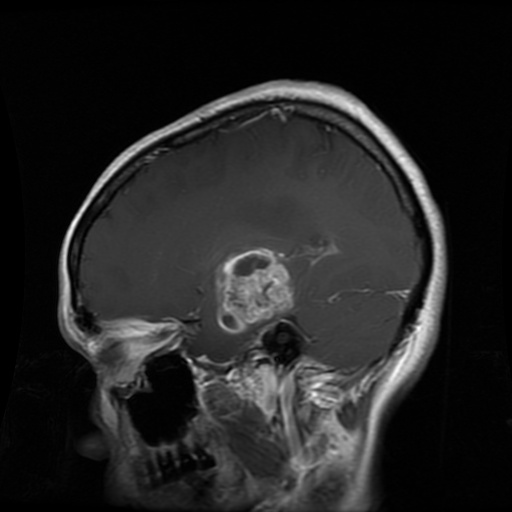glioma: (215, 247, 294, 333)
